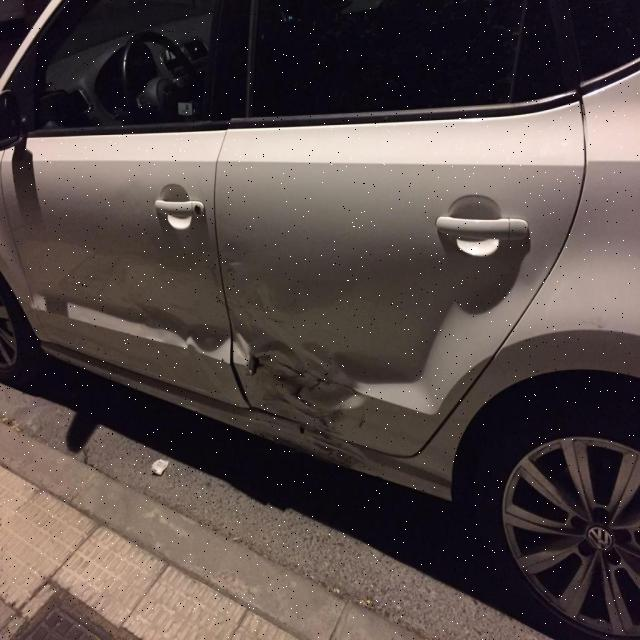damage: (152, 283, 394, 433), (311, 439, 364, 467)
